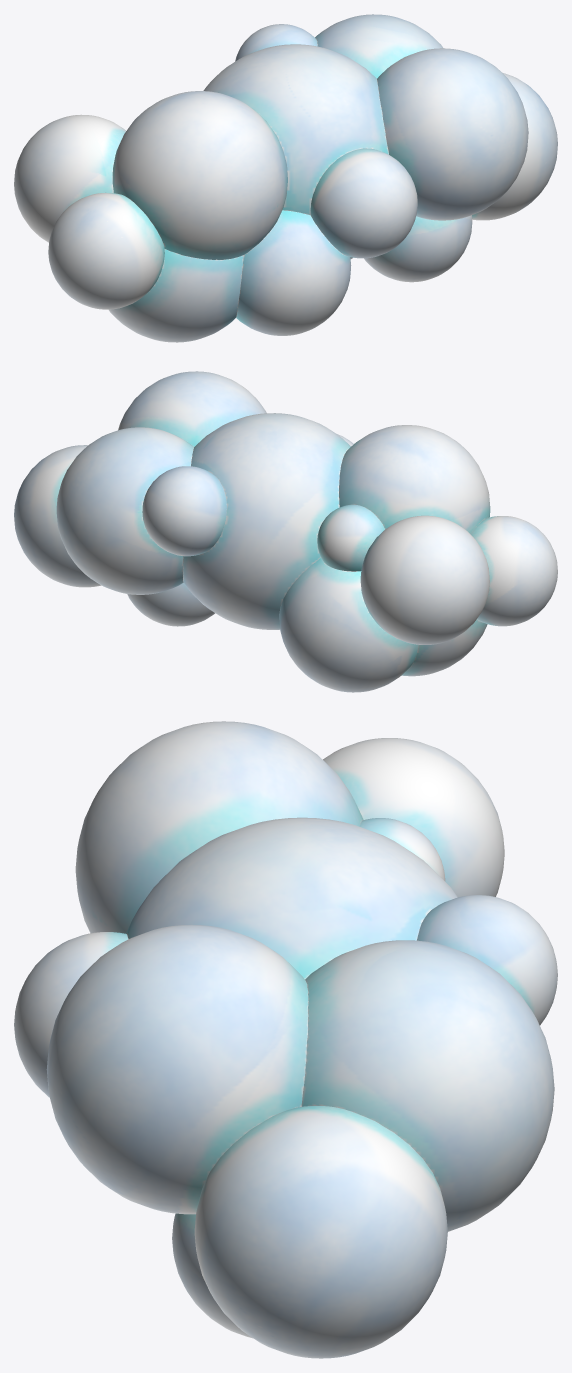
The model's file is Clouds.fbx.
3 renders of one model, top to bottom at view 1: azimuth 30°, elevation 25°; view 2: azimuth 150°, elevation 25°; view 3: azimuth 270°, elevation 25°, orthographic. The views are drawn at different scales.
Visible parts, largest first — view 1: Sphere.001; view 2: Sphere.001; view 3: Sphere.001.
Boxes of the visible parts, <box> form: Sphere.001: <box>14,14,557,342</box>; Sphere.001: <box>14,371,557,692</box>; Sphere.001: <box>14,721,557,1358</box>.
Bounding box in the file's own units: 5.28 × 2.34 × 2.82.
Materials: 1 (1 with a texture image).
